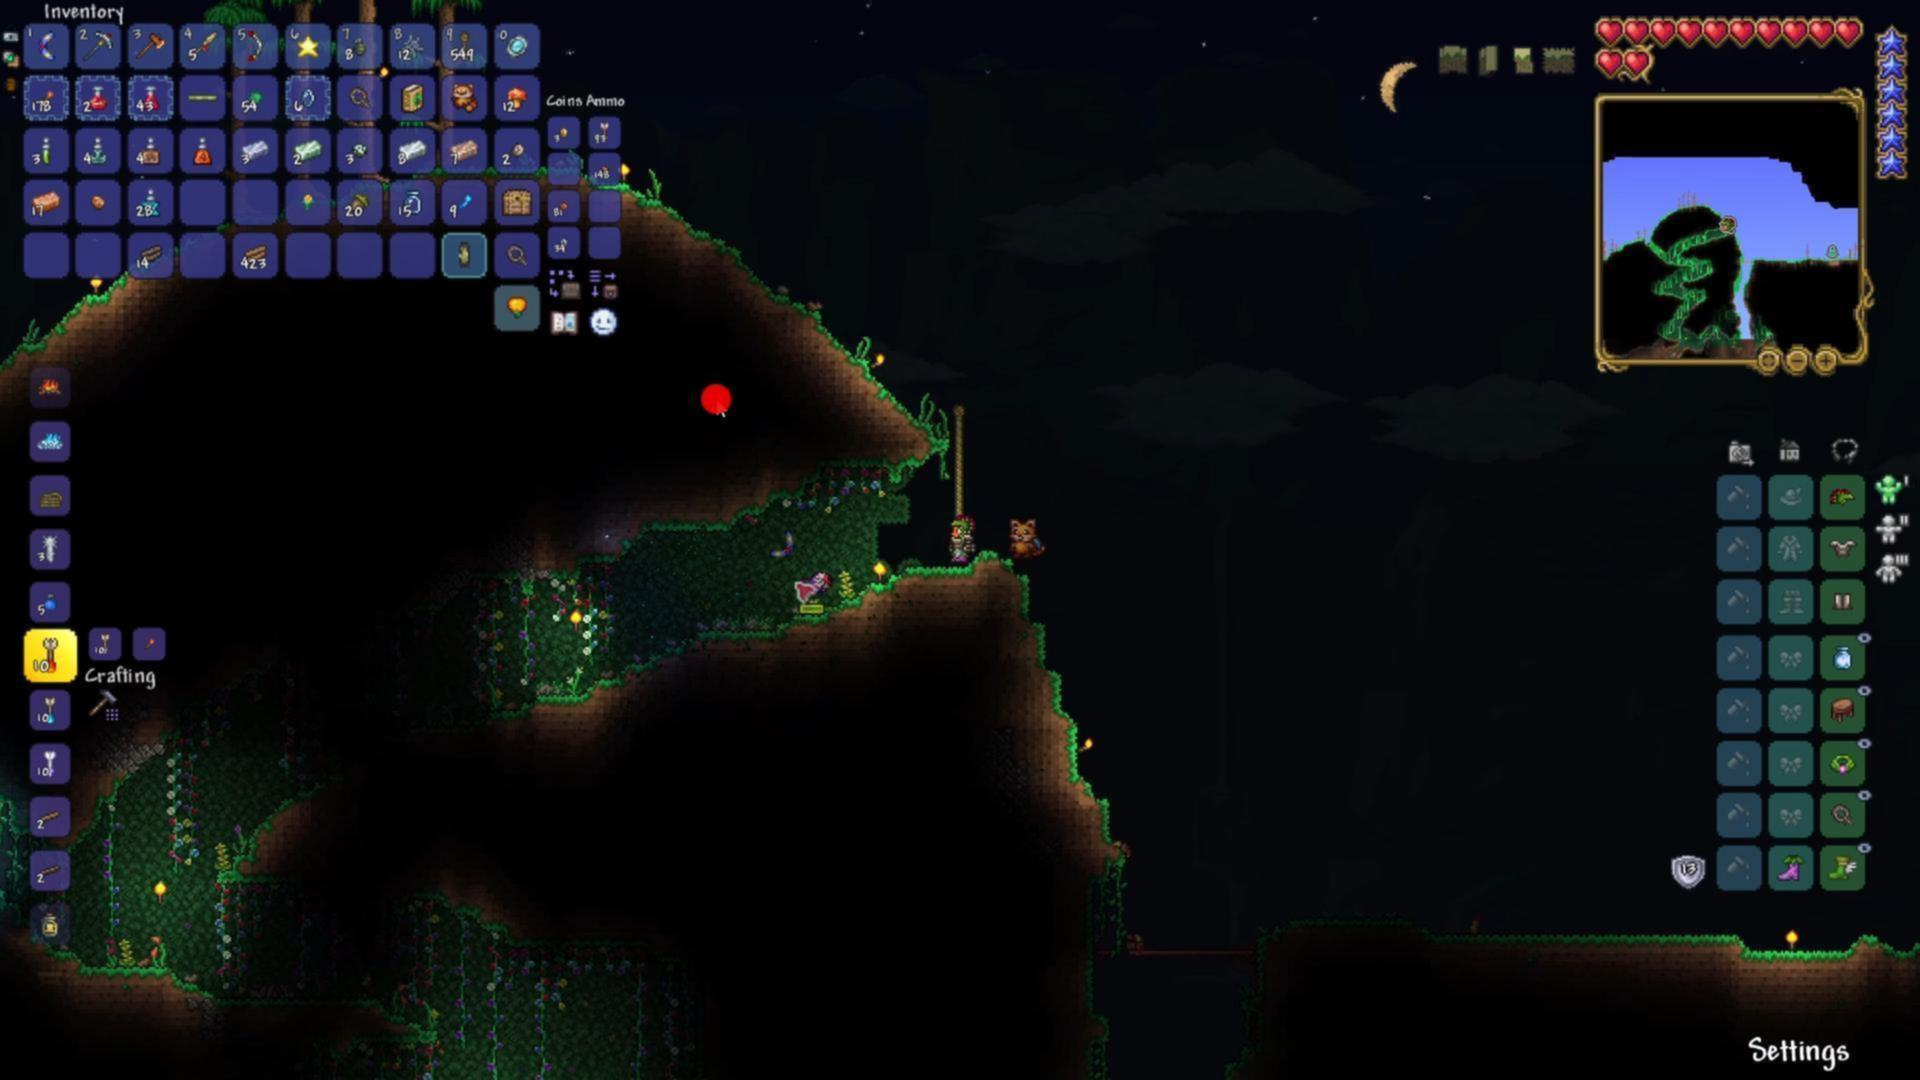arrow: (44, 634, 58, 670), (42, 695, 57, 728), (42, 746, 57, 778), (597, 119, 612, 145), (102, 632, 109, 654)
axe: (136, 32, 166, 61)
bar: (443, 135, 483, 164), (239, 136, 270, 165), (397, 137, 427, 166), (29, 191, 61, 216), (295, 137, 324, 162)
breastplate: (1828, 538, 1858, 563)
cobwebI: (398, 36, 426, 61)
eye: (782, 555, 847, 625)
gel: (245, 87, 266, 108)
legs: (1832, 589, 1855, 615)
lens: (299, 84, 316, 109)
ore: (351, 141, 375, 164), (84, 190, 105, 212), (510, 138, 529, 160)
torchT: (140, 872, 183, 902), (562, 603, 600, 630)
